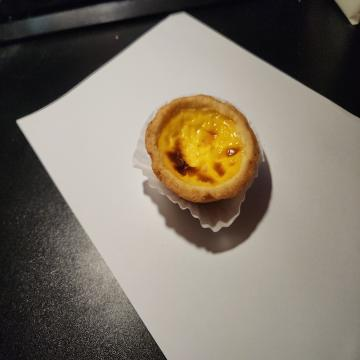EggTart: (146, 94, 260, 205)
